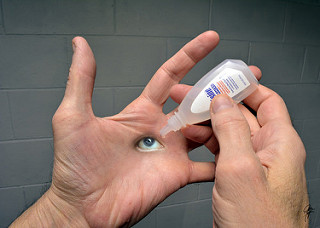palm: (70, 118, 174, 203)
